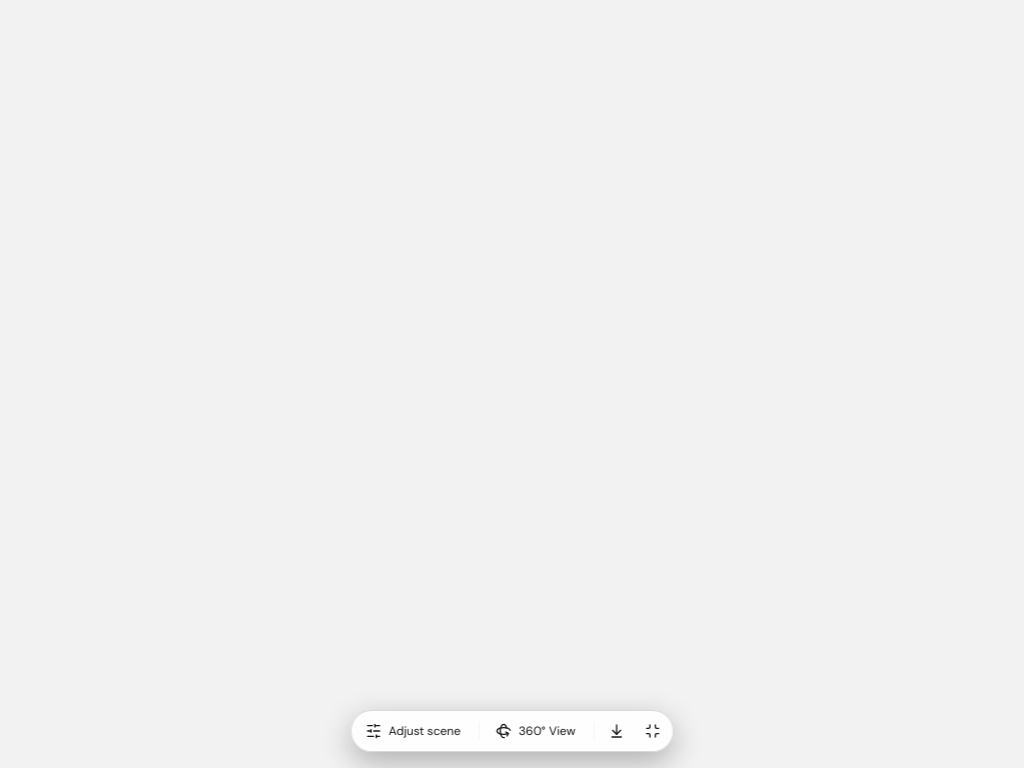
Test: renderer-free toolbar slots and accessibility › exits fullscreen before handing focus to settings outside the stage
Click the button "Adjust scene": (414, 731) [355,714,474,748]
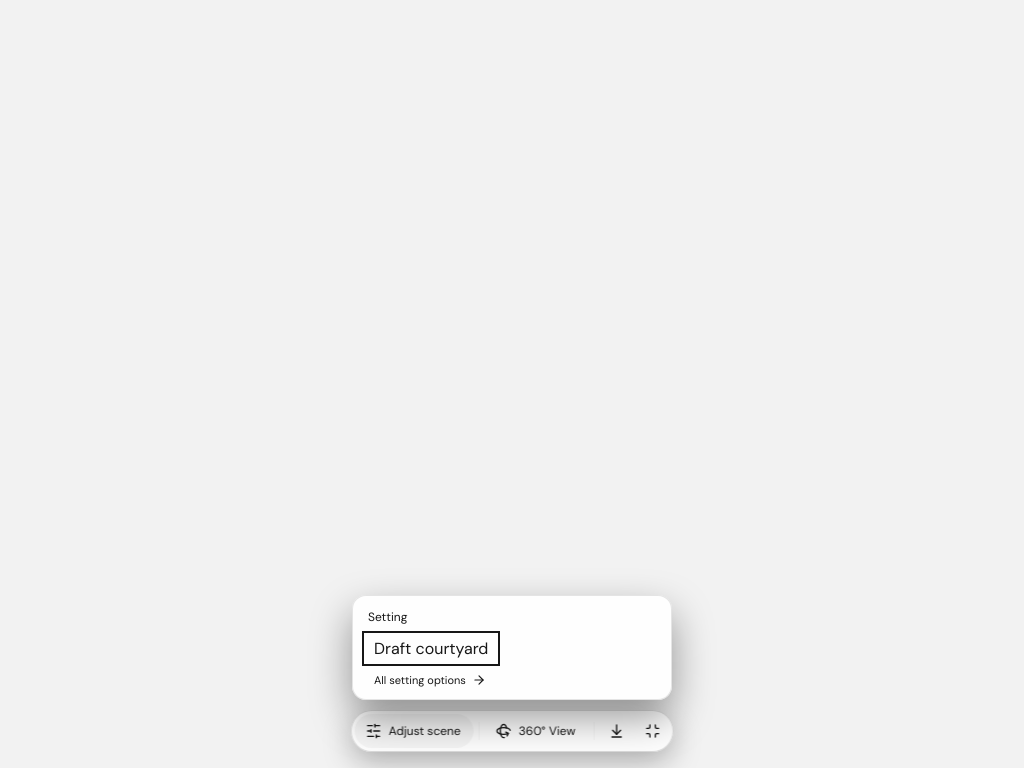
Click the button "All setting options": (430, 680) [368,672,492,688]
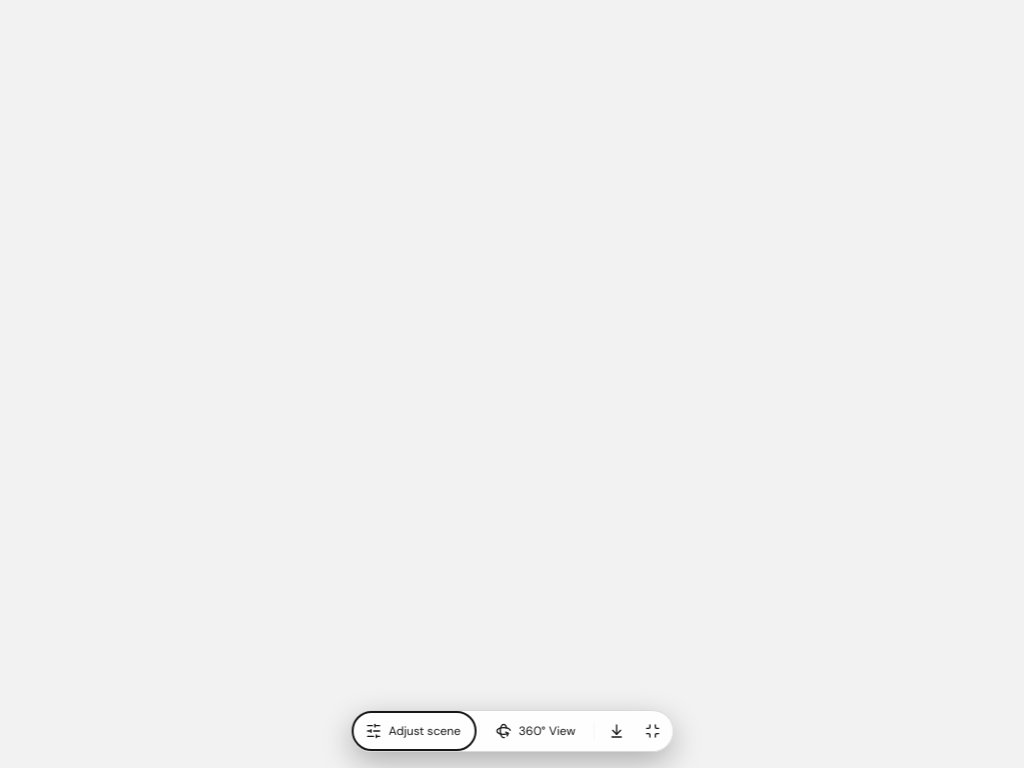
expect the button "Adjust scene" is collapsed: met, box [355,714,474,748]
